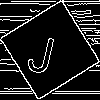J: (25, 25, 60, 76)
